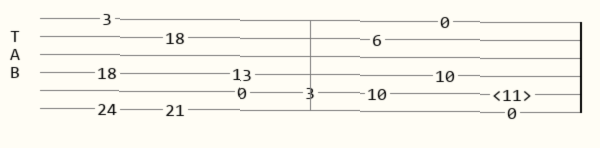0: (237, 85, 251, 100), (440, 13, 454, 28), (507, 103, 521, 118)
10: (367, 85, 391, 100), (435, 67, 459, 82)
13: (232, 67, 256, 82)
18: (97, 67, 121, 82), (165, 31, 189, 46)
21: (165, 103, 189, 118)
24: (97, 103, 121, 118)
3: (102, 13, 116, 28), (305, 85, 319, 100)
6: (372, 31, 386, 46)
harmonic: (492, 85, 536, 100)
